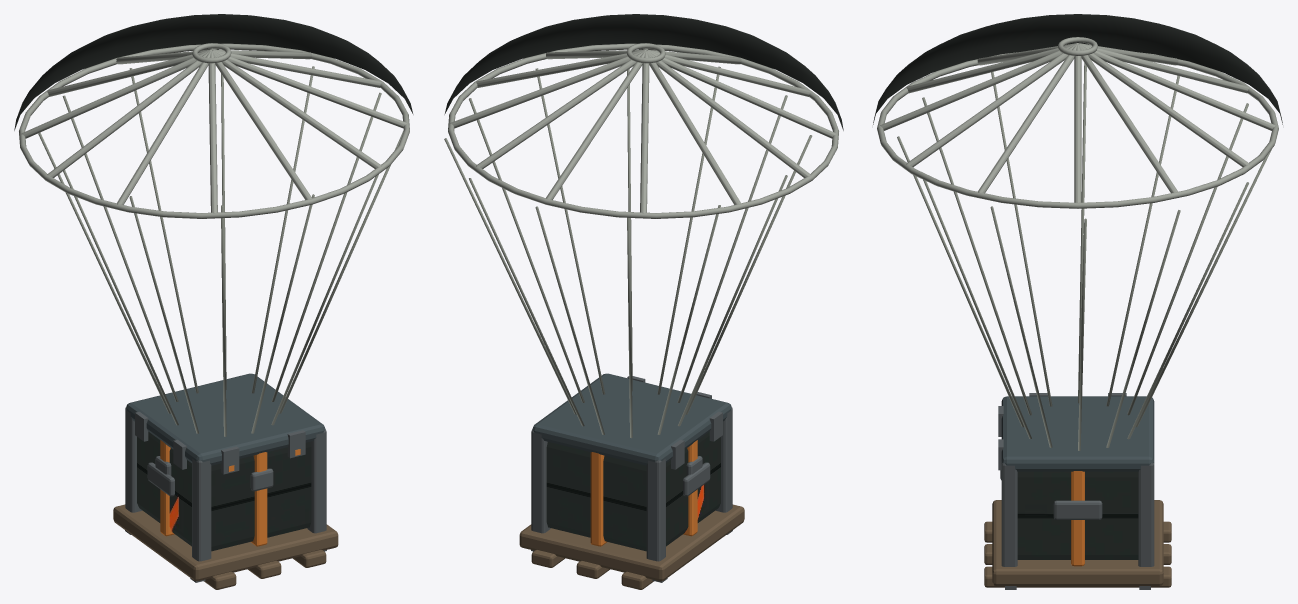
File: pass65-care-crate-lod0.glb
3 renders of one model, left to right at view 1: azimuth 30°, elevation 25°; view 2: azimuth 150°, elevation 25°; view 3: azimuth 270°, elevation 25°, orthographic. The views are drawn at different scales.
Visible parts, largest first — view 1: Care_CrateBody_LOD0, Care_CrateLid_LOD0, Care_ParachuteCanopy_LOD0, Care_CratePallet_LOD0, Care_ParachuteSkirt_LOD0, Care_CrateCornerGuard_-1_-1_LOD0, Care_CrateCornerGuard_1_-1_LOD0, Care_ParachuteRib_10_LOD0, Care_ParachuteRib_6_LOD0, Care_ParachuteRib_11_LOD0, Care_ParachuteRib_5_LOD0, Care_ParachuteRib_7_LOD0 (+22 smaller); view 2: Care_CrateBody_LOD0, Care_CrateLid_LOD0, Care_ParachuteCanopy_LOD0, Care_CratePallet_LOD0, Care_ParachuteSkirt_LOD0, Care_CrateCornerGuard_-1_1_LOD0, Care_CrateCornerGuard_1_1_LOD0, Care_ParachuteRib_6_LOD0, Care_ParachuteRib_2_LOD0, Care_ParachuteRib_1_LOD0, Care_ParachuteRib_7_LOD0, Care_CrateStrapY_LOD0 (+22 smaller); view 3: Care_ParachuteCanopy_LOD0, Care_CrateLid_LOD0, Care_CrateBody_LOD0, Care_CratePallet_LOD0, Care_ParachuteSkirt_LOD0, Care_CrateCornerGuard_1_-1_LOD0, Care_CrateCornerGuard_1_1_LOD0, Care_ParachuteRib_10_LOD0, Care_ParachuteRib_2_LOD0, Care_ParachuteRib_3_LOD0, Care_ParachuteRib_9_LOD0, Care_ParachuteRib_11_LOD0 (+19 smaller).
Boxes of the visible parts, <box> form: Care_CrateBody_LOD0: <box>137,432,311,551</box>; Care_CrateLid_LOD0: <box>126,373,325,465</box>; Care_ParachuteCanopy_LOD0: <box>14,14,413,130</box>; Care_CratePallet_LOD0: <box>113,504,338,581</box>; Care_ParachuteSkirt_LOD0: <box>19,43,409,218</box>; Care_CrateCornerGuard_-1_-1_LOD0: <box>192,459,211,561</box>; Care_CrateCornerGuard_1_-1_LOD0: <box>307,430,326,533</box>; Care_ParachuteRib_10_LOD0: <box>213,50,381,168</box>; Care_ParachuteRib_6_LOD0: <box>47,51,210,177</box>; Care_ParachuteRib_11_LOD0: <box>213,50,407,128</box>; Care_ParachuteRib_5_LOD0: <box>21,50,210,138</box>; Care_ParachuteRib_7_LOD0: <box>116,51,210,204</box>; Care_CrateBody_LOD0: <box>546,432,720,551</box>; Care_CrateLid_LOD0: <box>532,373,731,465</box>; Care_ParachuteCanopy_LOD0: <box>444,14,843,130</box>; Care_CratePallet_LOD0: <box>519,504,744,581</box>; Care_ParachuteSkirt_LOD0: <box>448,43,838,218</box>; Care_CrateCornerGuard_-1_1_LOD0: <box>646,459,665,561</box>; Care_CrateCornerGuard_1_1_LOD0: <box>531,430,550,533</box>; Care_ParachuteRib_6_LOD0: <box>647,51,810,177</box>; Care_ParachuteRib_2_LOD0: <box>476,50,644,168</box>; Care_ParachuteRib_1_LOD0: <box>450,50,644,128</box>; Care_ParachuteRib_7_LOD0: <box>647,50,836,138</box>; Care_CrateStrapY_LOD0: <box>590,452,606,546</box>; Care_ParachuteCanopy_LOD0: <box>873,14,1282,124</box>; Care_CrateLid_LOD0: <box>1001,396,1154,471</box>; Care_CrateBody_LOD0: <box>1017,471,1138,559</box>; Care_CratePallet_LOD0: <box>992,500,1163,585</box>; Care_ParachuteSkirt_LOD0: <box>877,52,1278,208</box>; Care_CrateCornerGuard_1_-1_LOD0: <box>1001,463,1017,566</box>; Care_CrateCornerGuard_1_1_LOD0: <box>1138,463,1154,566</box>; Care_ParachuteRib_10_LOD0: <box>906,44,1076,167</box>; Care_ParachuteRib_2_LOD0: <box>1079,44,1249,166</box>; Care_ParachuteRib_3_LOD0: <box>1079,43,1275,130</box>; Care_ParachuteRib_9_LOD0: <box>880,43,1076,130</box>; Care_ParachuteRib_11_LOD0: <box>977,44,1077,192</box>.
Bounding box in the file's own units: 3.56 × 4.87 × 3.56.
Materials: 8 (1 with a texture image).
